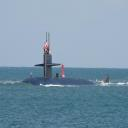submarine: (17, 54, 110, 86)
